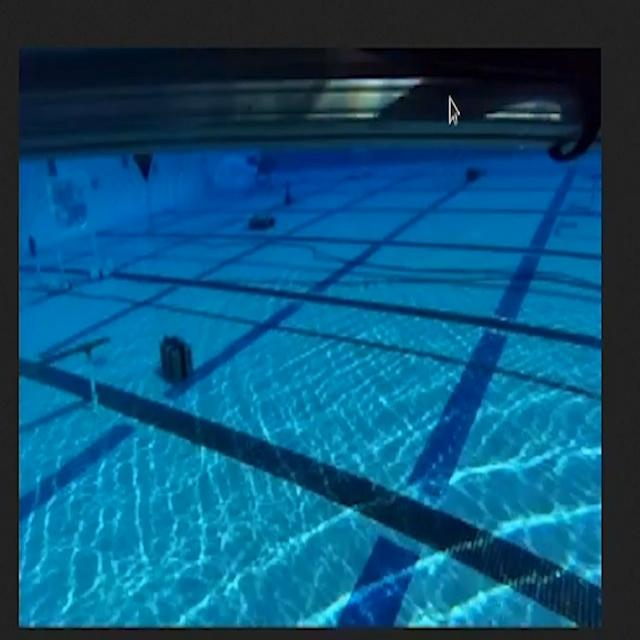Path: (12, 324, 129, 439)
